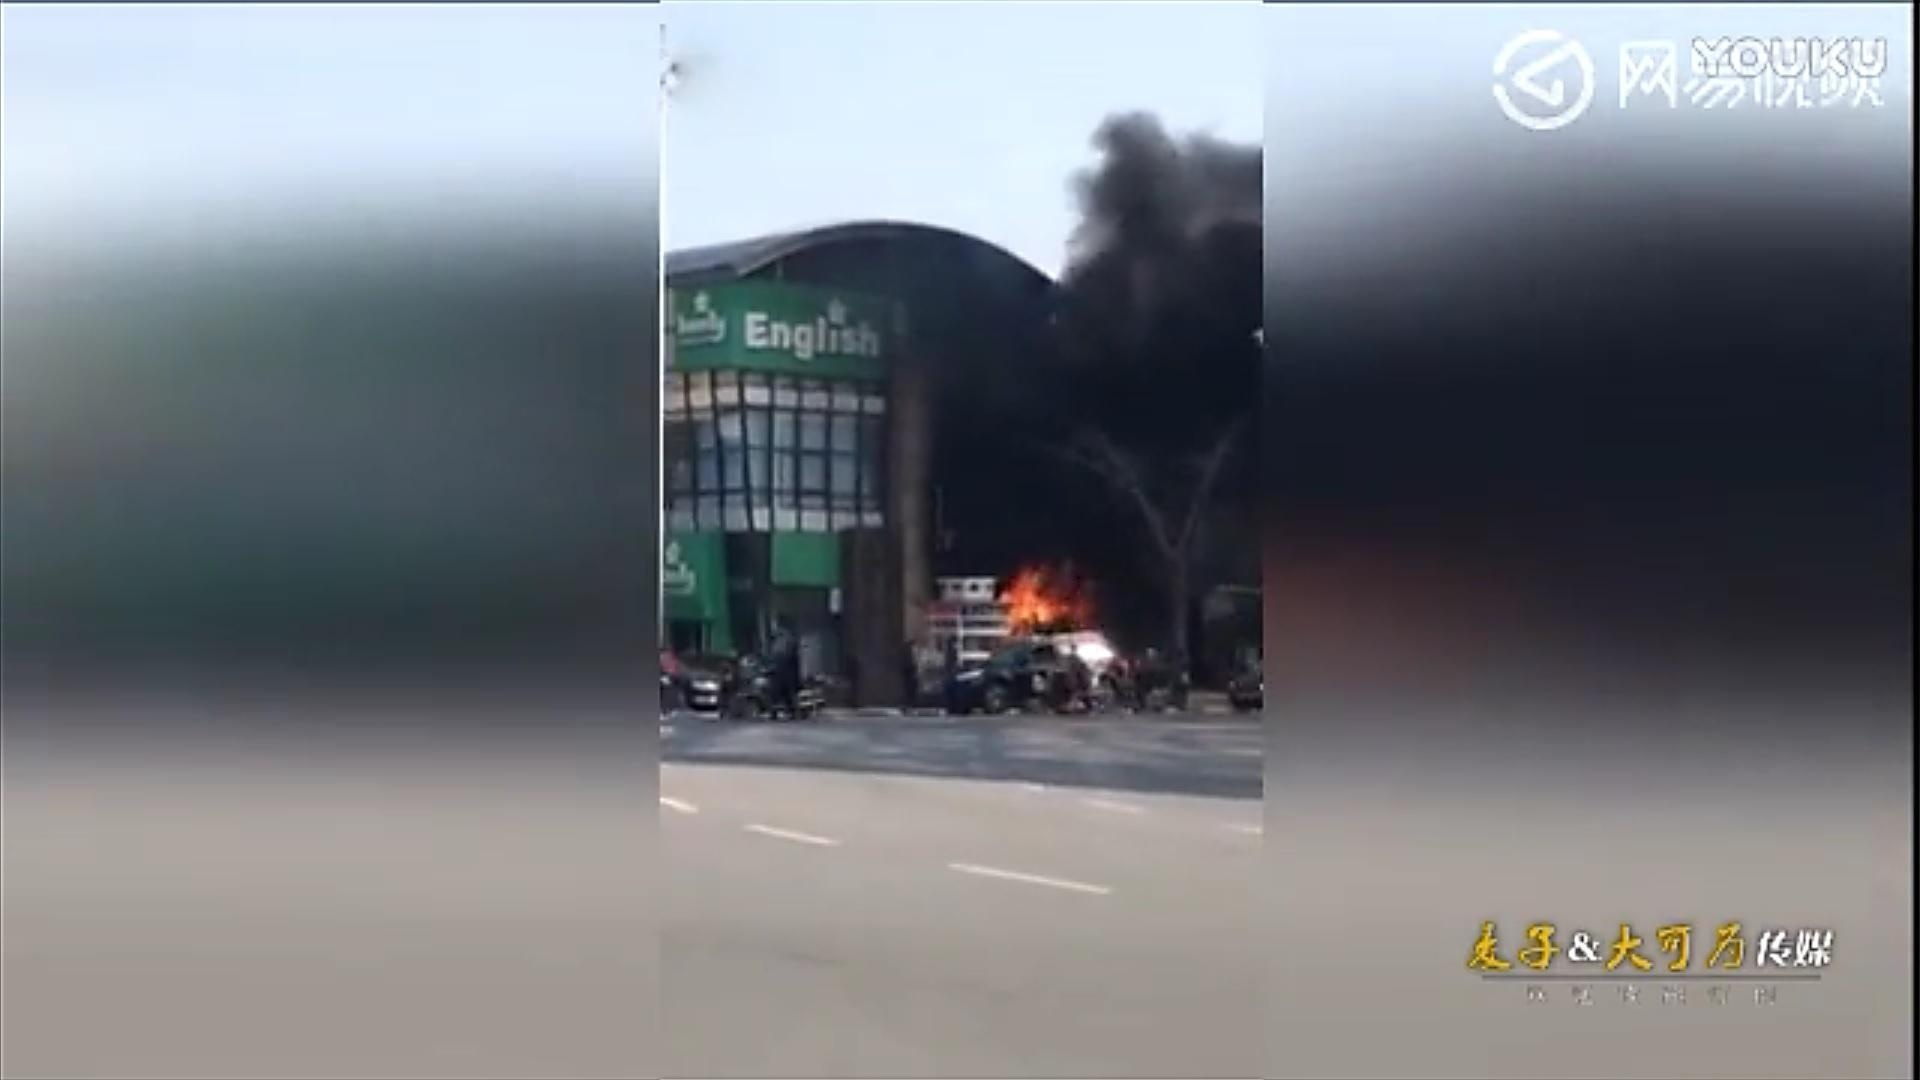fire: (1000, 566, 1088, 632)
